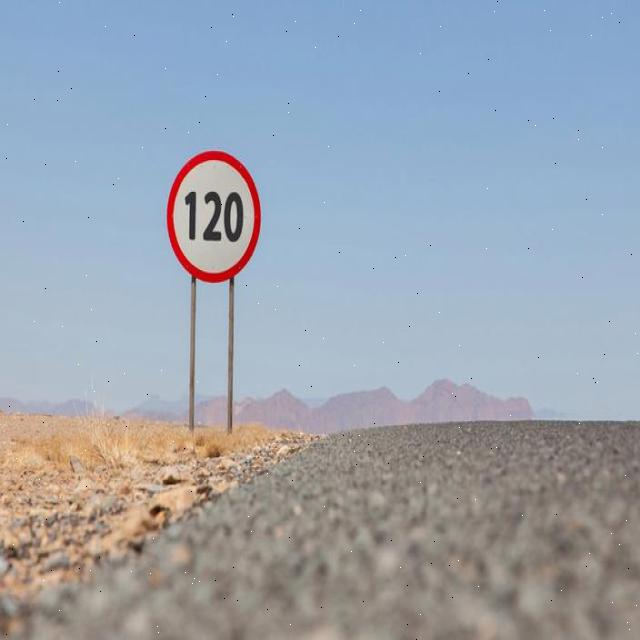speed limit 120: (166, 150, 262, 281)
